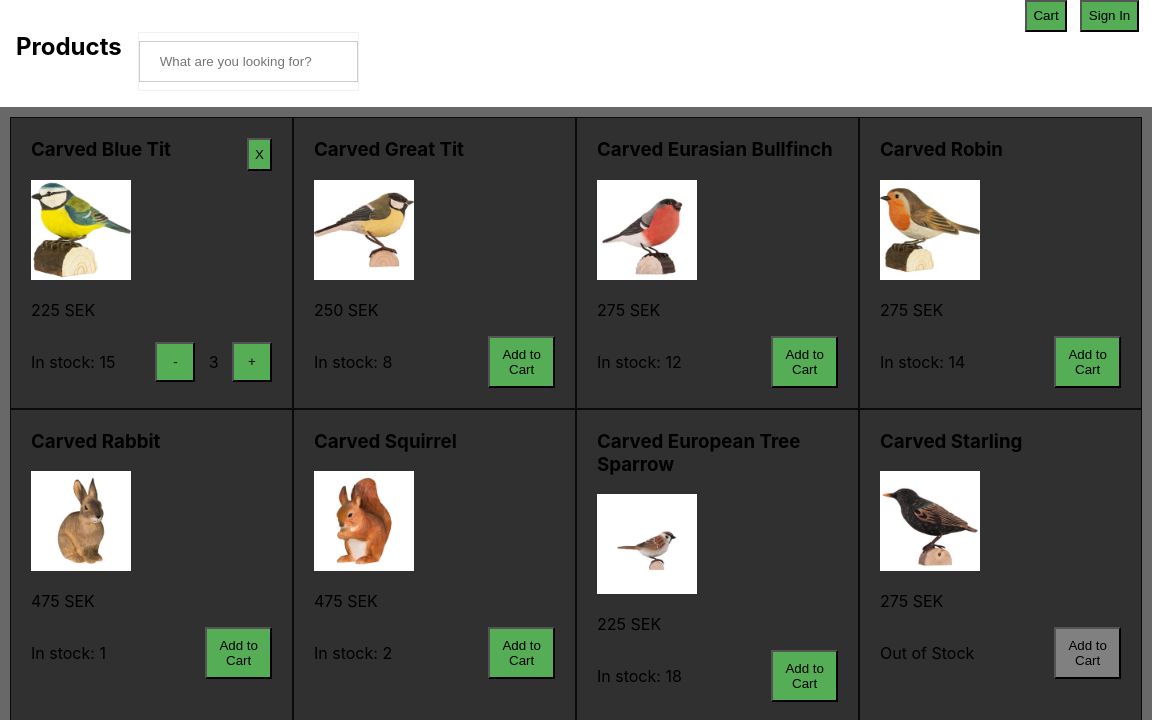
Test: ProductList component › reduces amount of the same product in cart
The image size is (1152, 720).
Click the button "Cart". click: point(1046, 16)
box: [1025,0,1067,32]
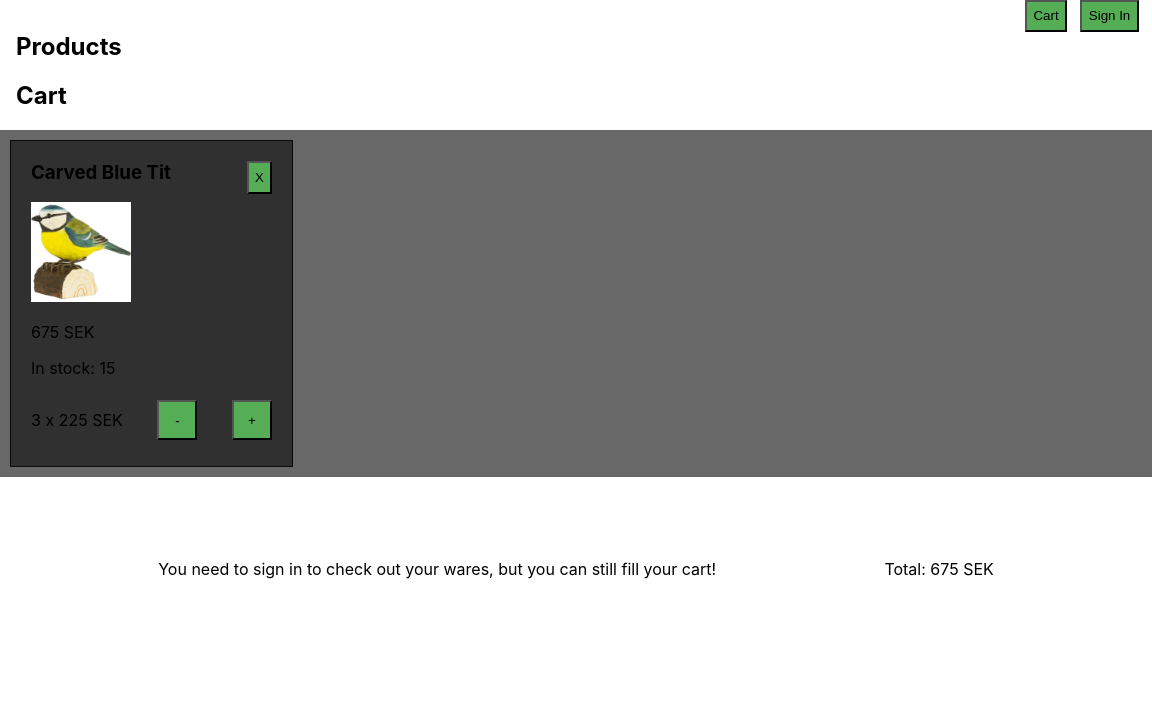
# Remove one product
Click the button "-". click: point(177, 420)
box: [157,400,197,440]
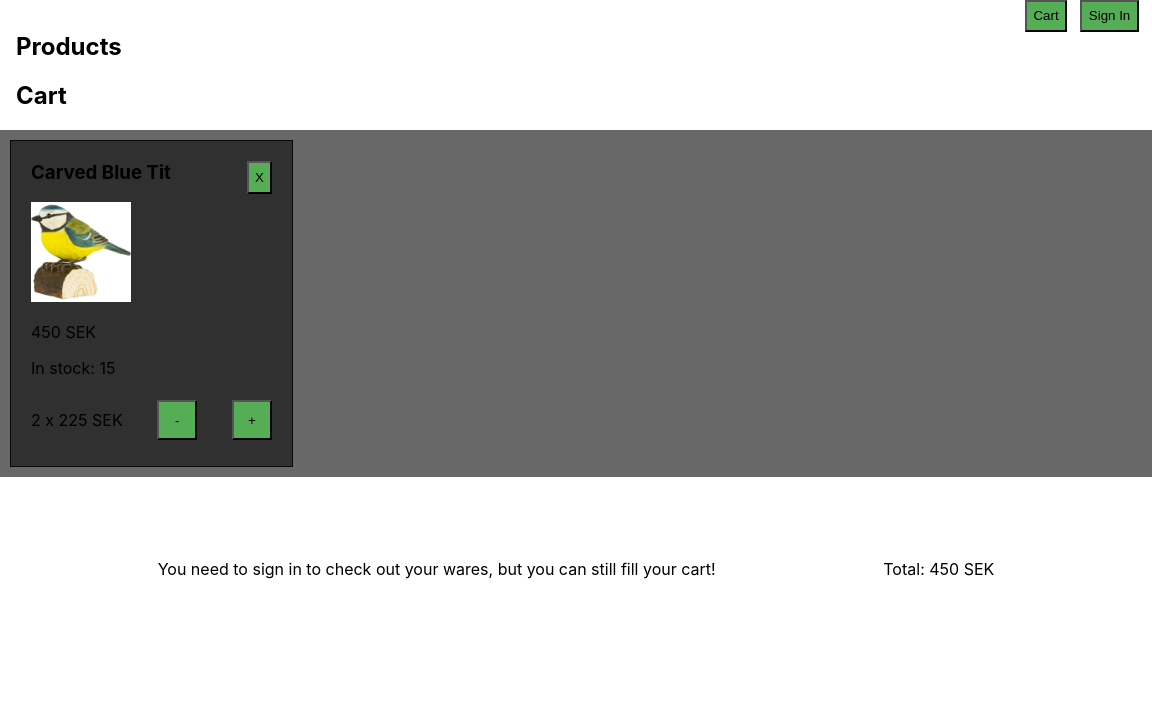
Now the text "2 x 225 SEK" is shown, box [31,410,123,430]
